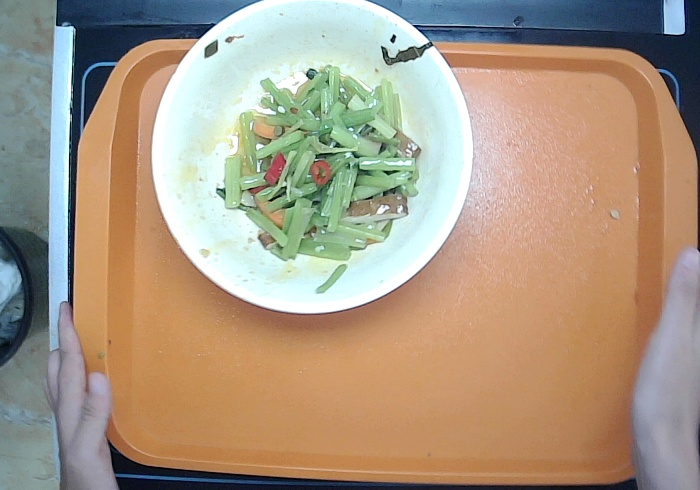ZNLD-Da_Tang_Wan: (137, 1, 488, 332)
